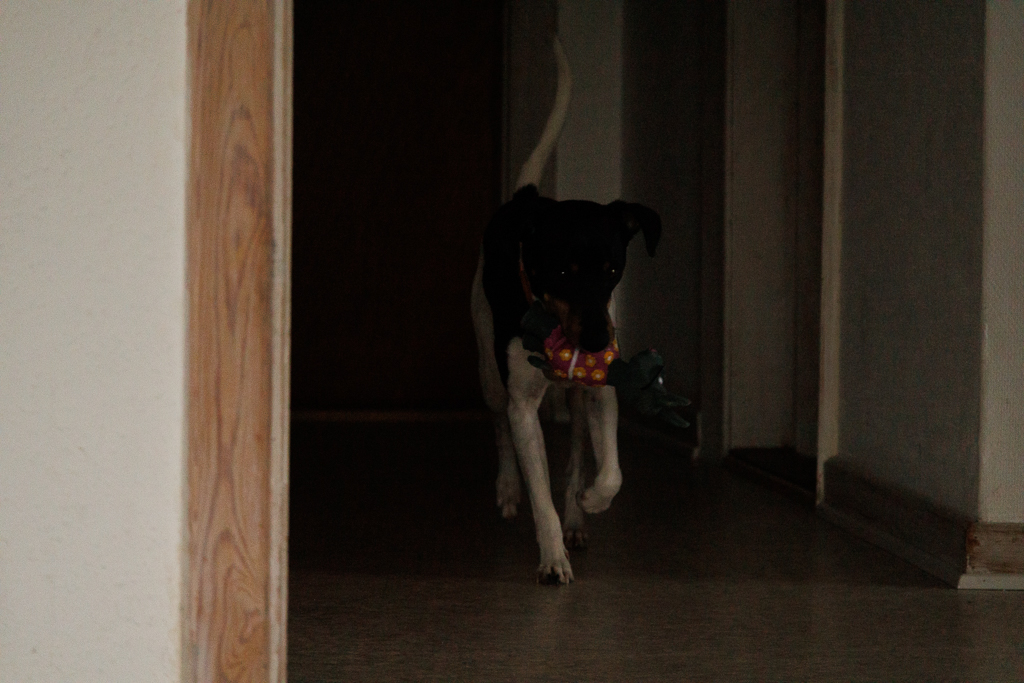Dog: (451, 18, 676, 594)
Humanoid: (517, 293, 694, 429)
